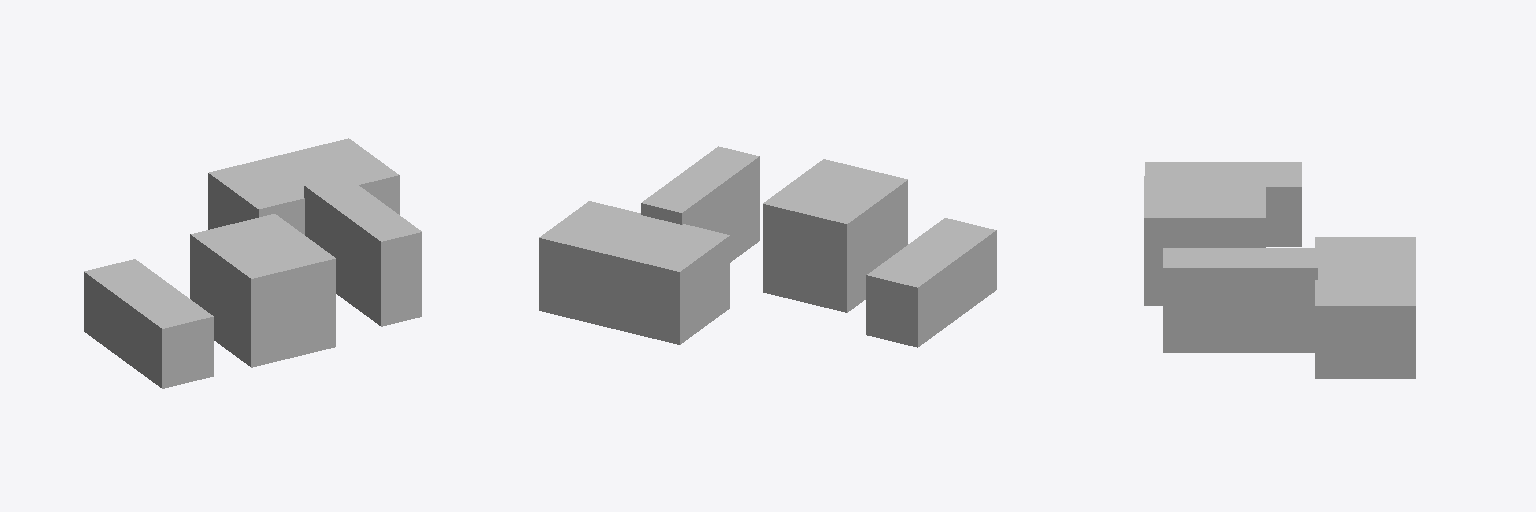
File: cubes.obj
3 views of the same model, side by side, from view 1: azimuth 30°, elevation 25°; view 2: azimuth 150°, elevation 25°; view 3: azimuth 270°, elevation 25° (orthographic).
Parts seen in each view (by area): view 1: Box001, Box003, Box002, Box004; view 2: Box004, Box001, Box002, Box003; view 3: Box003, Box004, Box001, Box002.
Part boxes in pixels (x1,y1,x2,y2): Box001: (190,214,335,367); Box003: (304,175,421,326); Box002: (84,259,213,388); Box004: (208,138,399,234); Box004: (539,201,729,344); Box001: (763,159,907,312); Box002: (866,218,996,347); Box003: (641,146,759,262); Box003: (1163,248,1317,352); Box004: (1315,237,1415,378); Box001: (1144,176,1265,305); Box002: (1145,162,1301,246).
Size of the model in its own units: 152 by 40 by 111.